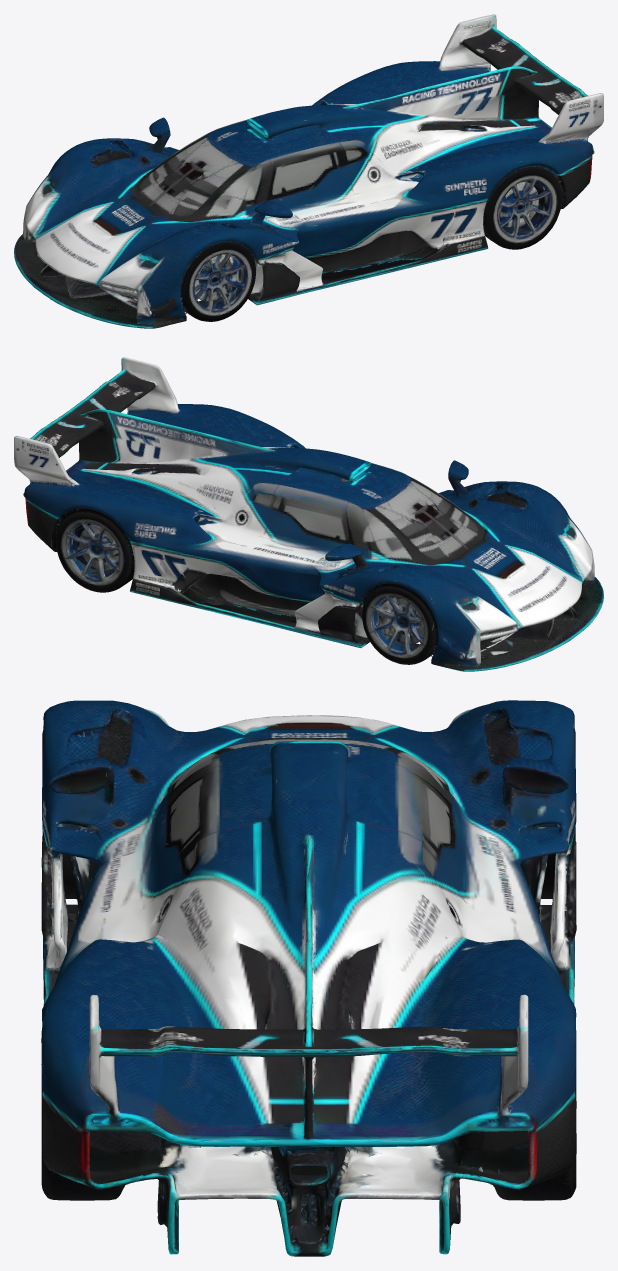
Rendered from customizable_hypercar_model3.glb.
3 renders of one model, top to bottom at view 1: azimuth 30°, elevation 25°; view 2: azimuth 150°, elevation 25°; view 3: azimuth 270°, elevation 25°, orthographic. The views are drawn at different scales.
Parts seen in each view (by area): view 1: Mesh_0; view 2: Mesh_0; view 3: Mesh_0.
Boxes of the visible parts, <box> form: Mesh_0: <box>14,14,603,328</box>; Mesh_0: <box>14,357,603,671</box>; Mesh_0: <box>41,700,576,1256</box>.
Bounding box in the file's own units: 1.91 × 0.4616 × 0.8707.
Materials: 1 (1 with a texture image).
